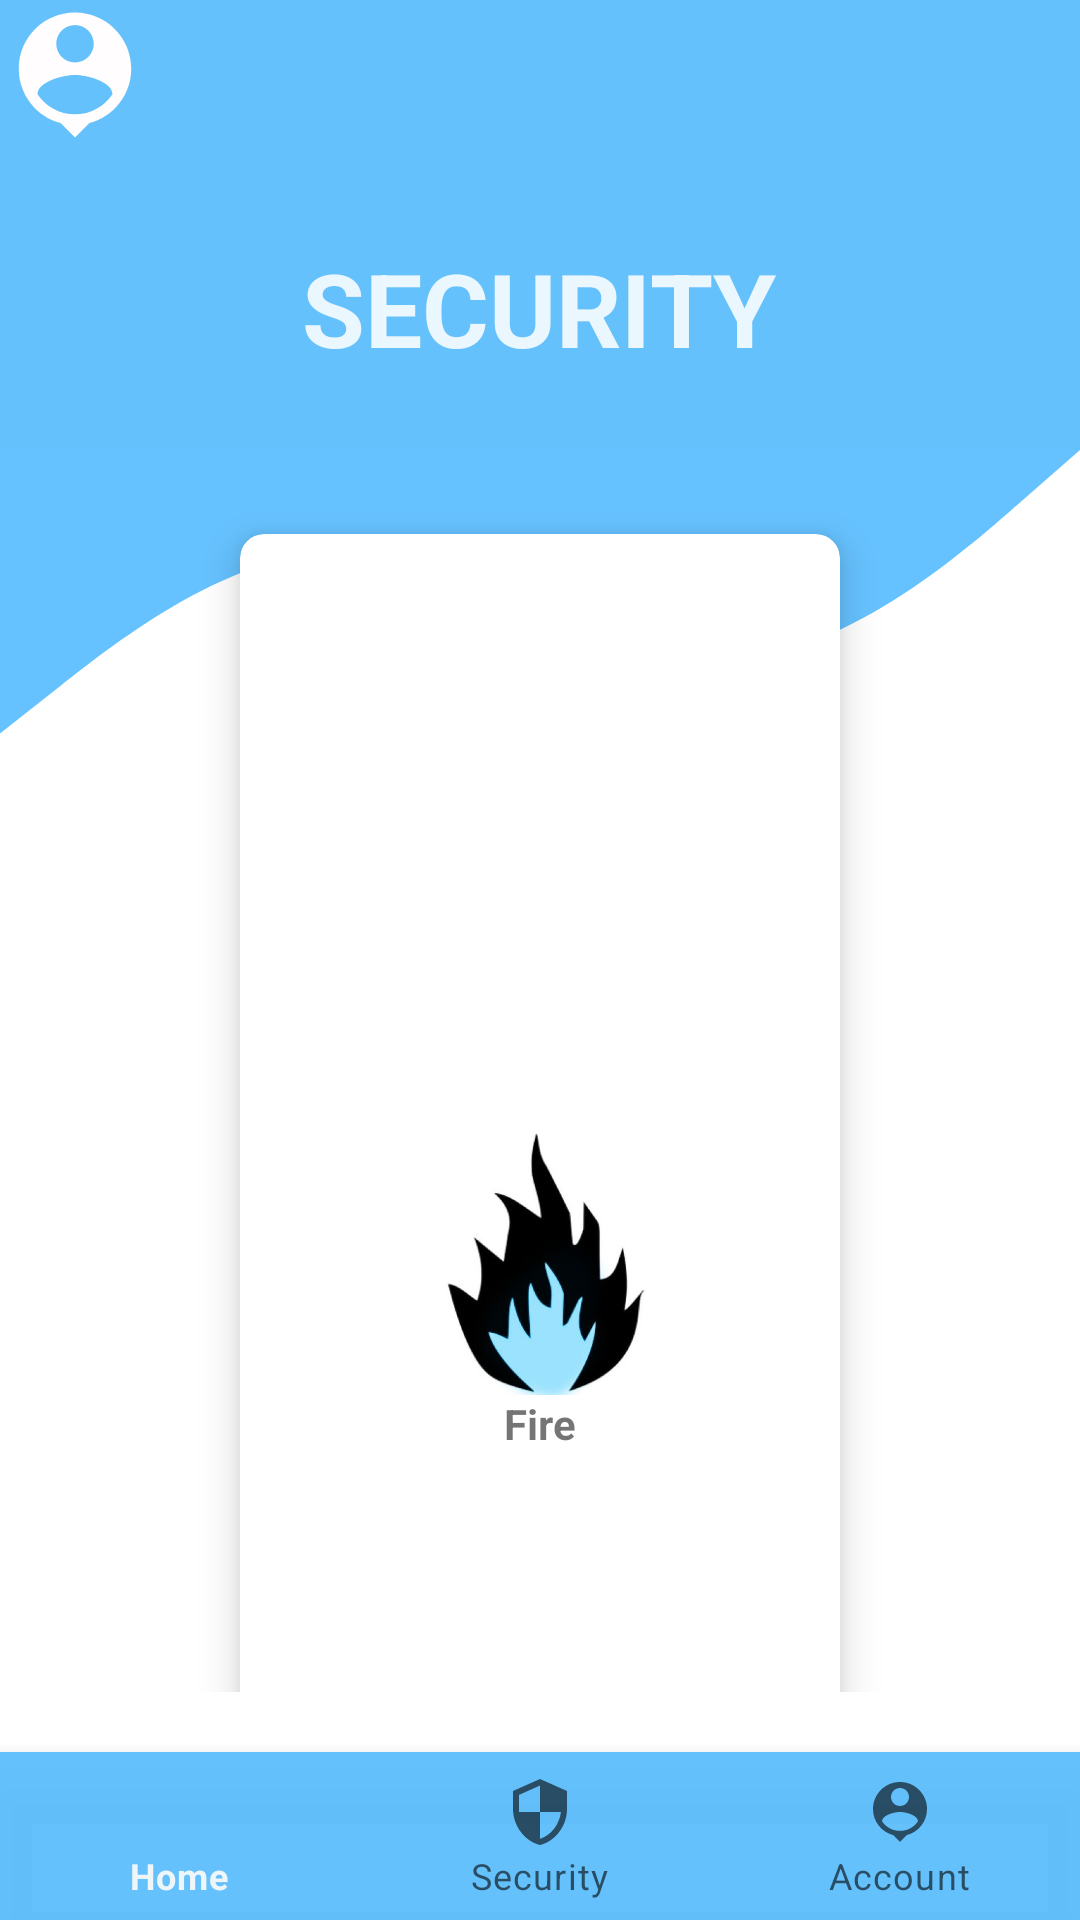

Named icons in this screenshot (1080*1920) and their centers, [x,y]:
person pin: [75,74]
